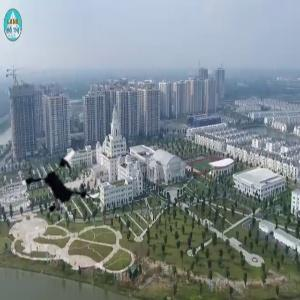drone: (23, 141, 106, 224)
